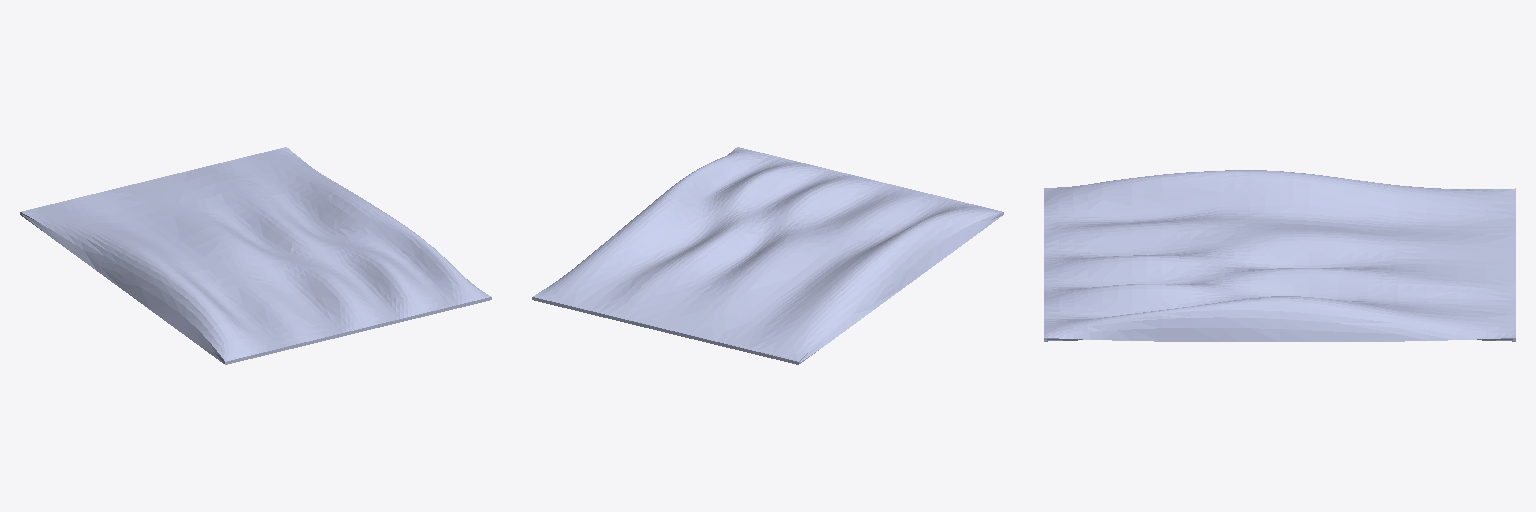
The robot description file, URDF, robot "floor_feature_5":
<?xml version="1.0" encoding="utf-8"?>
<!-- This URDF was automatically created by SolidWorks to URDF Exporter! Originally created by [author] ([email redacted]) 
     Commit Version: 1.6.0-1-g15f4949  Build Version: 1.6.7594.29634
     For more information, please see http://wiki.ros.org/sw_urdf_exporter -->
<robot
  name="floor_feature_5">
  <link
    name="base_link">
    <inertial>
      <origin
        xyz="0.0729609625726285 -0.103244185549756 0.00630032743975809"
        rpy="0 0 0" />
      <mass
        value="0.294925675822405" />
      <inertia
        ixx="0.000695571383184096"
        ixy="-1.08485327949502E-05"
        ixz="6.53709333945913E-06"
        iyy="0.000616612600722204"
        iyz="5.70842747679601E-06"
        izz="0.00129811719592576" />
    </inertial>
    <visual>
      <origin
        xyz="0 0 0"
        rpy="0 0 0" />
      <geometry>
        <mesh
          filename="package://floor_feature_5/meshes/base_link.STL" scale="50 50 30"/>
      </geometry>
      <material
        name="">
        <color
          rgba="0.792156862745098 0.819607843137255 0.933333333333333 1" />
      </material>
    </visual>
    <collision>
      <origin
        xyz="0 0 0"
        rpy="0 0 0" />
      <geometry>
        <mesh
          filename="package://floor_feature_5/meshes/base_link.STL" scale="50 50 30"/>
      </geometry>
    </collision>
  </link>

<gazebo reference = 'base_link'>
<material> Gazebo/Sand_Floor </material>
</gazebo>

<gazebo>
<static> true </static>
</gazebo>


</robot>

--- Facts derived from the render (not from the file) ---
The picture shows the robot from 3 angles, left to right: view 1: azimuth 30°, elevation 25°; view 2: azimuth 150°, elevation 25°; view 3: azimuth 270°, elevation 25°; orthographic projection.
Model floor_feature_5 with 1 links and 0 joints (none), rooted at base_link, posed every joint at zero.
Visible links, largest first — view 1: base_link; view 2: base_link; view 3: base_link.
Boxes of the visible links, x1,y1,x2,y2 form: base_link: (20,147,491,364); base_link: (532,147,1003,364); base_link: (1044,170,1515,341).
Size in the robot's own frame: 7.5 by 10 by 0.8026 metres.
Meshes: 1 distinct files referenced, 1 mesh visuals loaded (1 binary STL).